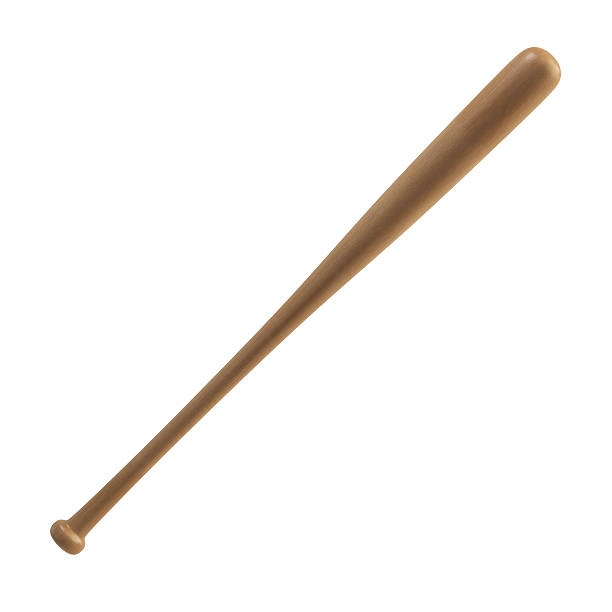bita: (39, 51, 547, 562)
